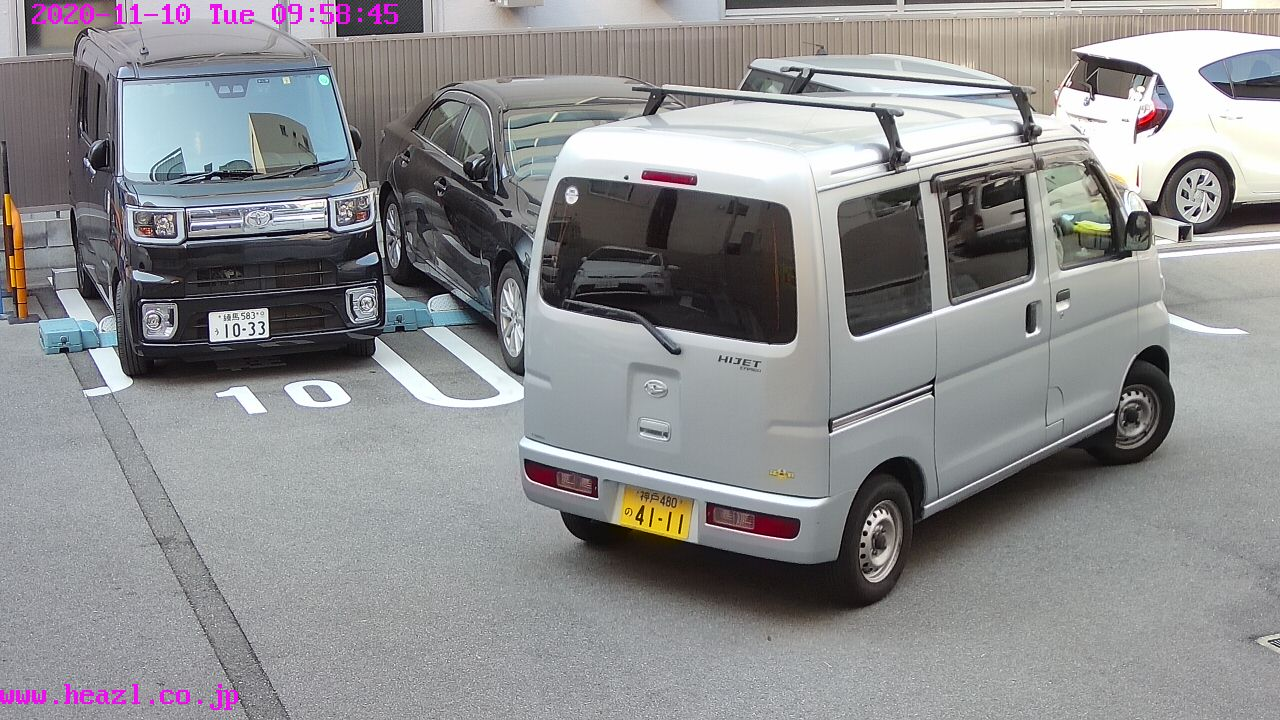number_plate: (622, 481, 690, 541), (208, 310, 270, 338)
